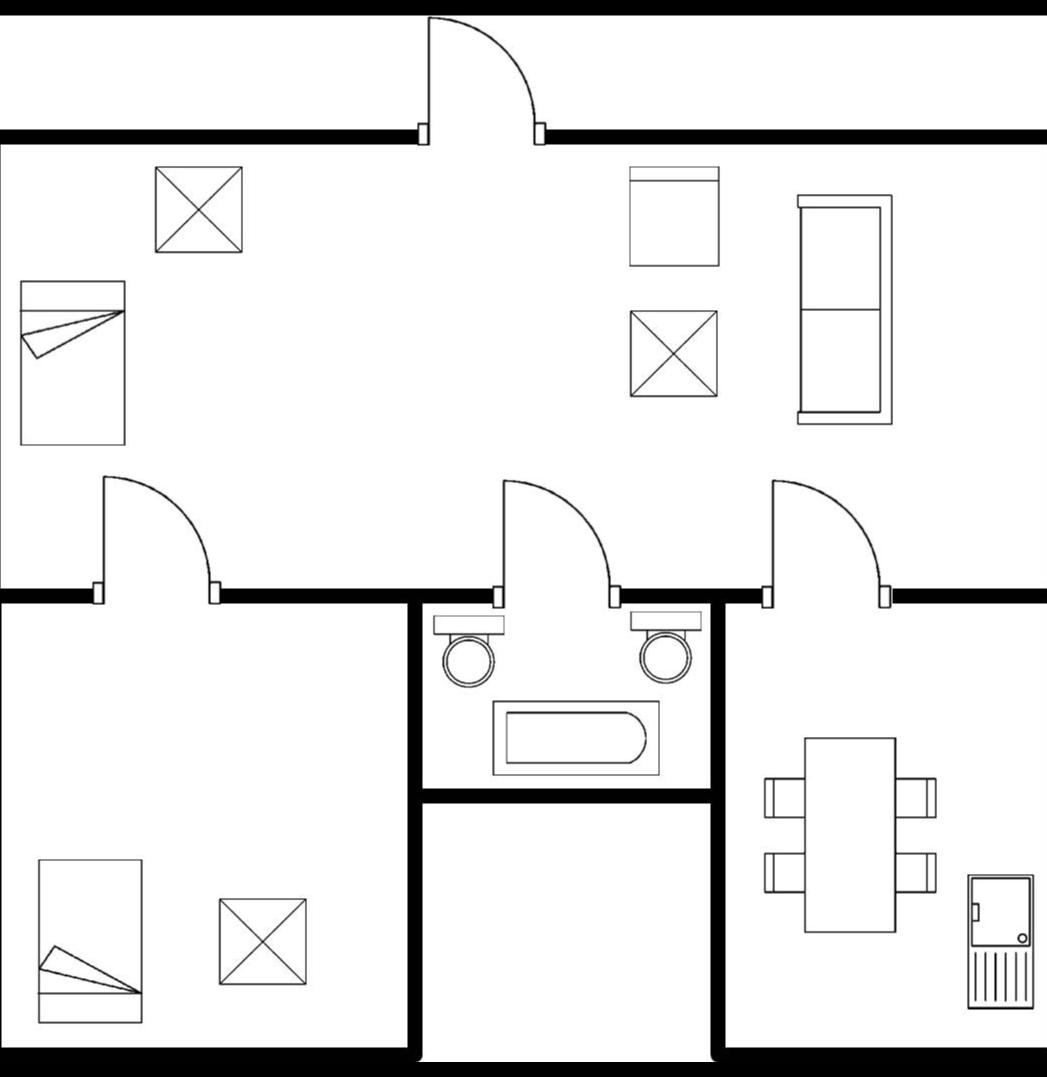bed: (26, 850, 154, 1033), (11, 273, 133, 456)
dining_table: (756, 725, 942, 943)
sink: (959, 869, 1039, 1021)
sofa: (787, 182, 900, 437)
toilet: (426, 612, 515, 693), (625, 607, 705, 690)
tub: (483, 695, 665, 783)
